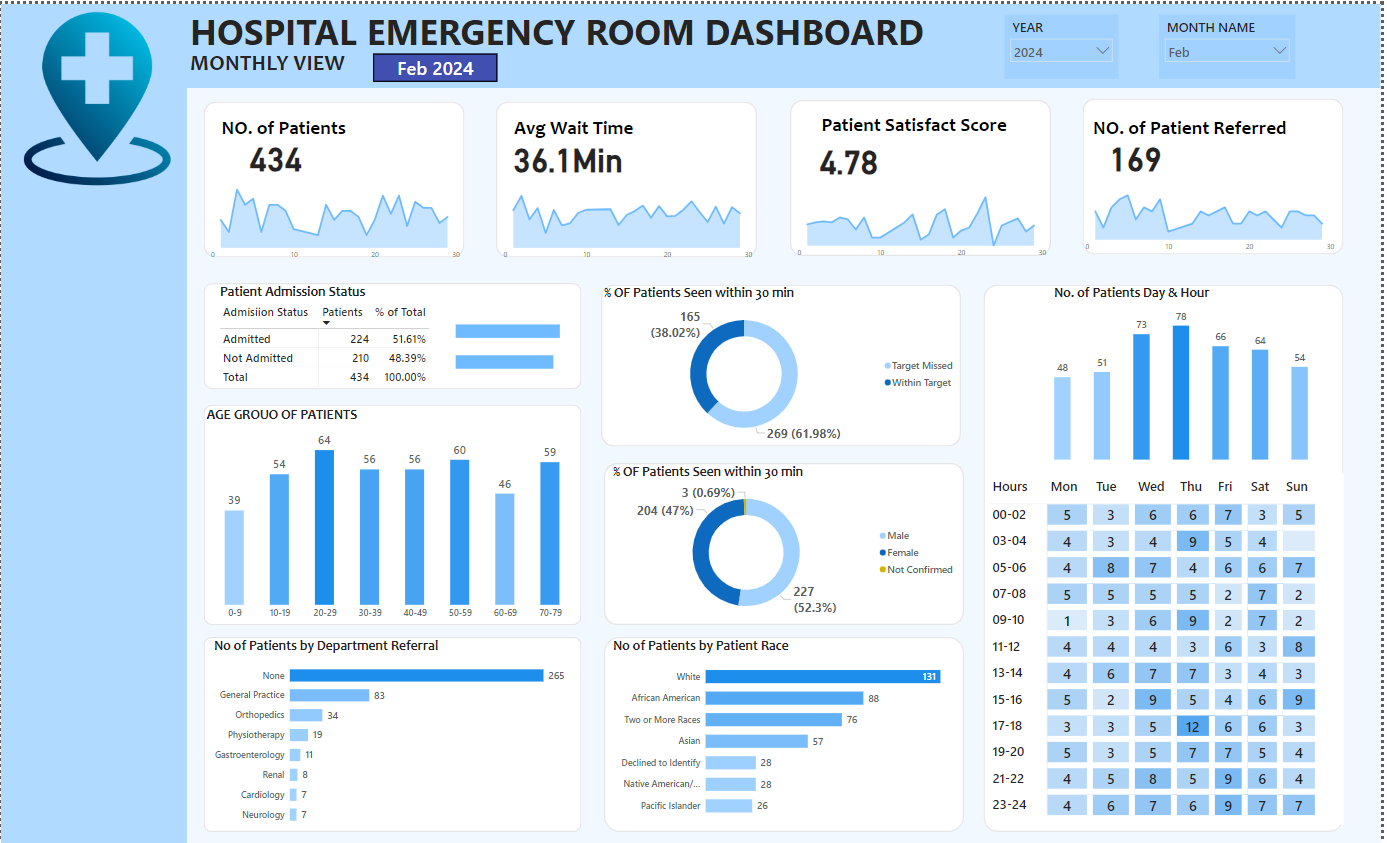

What the dashboard file says about the page in this screenshot:
{"tool":"powerbi","page":{"name":"Page 1","canvas":[2300,1400],"ordinal":0},"visuals":[{"type":"shape","box":[0,0,310,1400.1],"z":0},{"type":"shape","box":[311.1,0,1989,140],"z":1000},{"type":"textbox","box":[310,0,1990,92.5],"z":2000},{"type":"shape","box":[337.5,162.5,435,260],"z":3000},{"type":"textbox","box":[310,70,342.5,72.5],"z":4000},{"type":"card","fields":{"Values":["Hospital ER_Data.No of Patients"]},"box":[360,212.5,195,77.5],"z":5000},{"type":"slicer","fields":{"Values":["DATE TABLE.Year"]},"box":[1672.5,17.5,190,107.5],"z":6000},{"type":"slicer","fields":{"Values":["DATE TABLE.Month Table"]},"box":[1930,17.5,227.5,107.5],"z":7000},{"type":"textbox","box":[362.5,180,342.5,72.5],"z":8000},{"type":"areaChart","fields":{"Y":["Hospital ER_Data.No of Patients"],"Category":["DATE TABLE.Date.Variation.Date Hierarchy.Day"]},"box":[337.5,290,435,145],"z":9000},{"type":"card","fields":{"Values":["Min(DATE TABLE.Month & Year)"]},"box":[620,82.5,207.5,47.5],"z":10000},{"type":"shape","box":[825.8,162.5,435,260],"z":11000},{"type":"shape","box":[1314.2,160,435,260],"z":12000},{"type":"shape","box":[1802.5,157.5,435,260],"z":13000},{"type":"areaChart","fields":{"Category":["DATE TABLE.Date.Variation.Date Hierarchy.Day"],"Y":["Avg(Hospital ER_Data.Patient Waittime)"]},"box":[825,290,435,145],"z":14000},{"type":"areaChart","fields":{"Y":["Sum(Hospital ER_Data.Patient Satisfaction Score)"],"Category":["DATE TABLE.Date.Variation.Date Hierarchy.Day"]},"box":[1315,287.5,435,145],"z":15000},{"type":"areaChart","fields":{"Category":["DATE TABLE.Date.Variation.Date Hierarchy.Day"],"Y":["DATE TABLE.No. of Patient Referred"]},"box":[1795,277.5,435,145],"z":16000},{"type":"textbox","box":[1815,180,342.5,72.5],"z":17000},{"type":"textbox","box":[1362.5,175,342.5,72.5],"z":18000},{"type":"textbox","box":[850,180,342.5,72.5],"z":19000},{"type":"shape","box":[337.5,465,630,177],"z":20000},{"type":"card","fields":{"Values":["DATE TABLE.No. of Patient Referred"]},"box":[1792.5,212.5,195,77.5],"z":21000},{"type":"card","fields":{"Values":["DATE TABLE.Patient Satisfaction Score"]},"box":[1315,217.5,195,77.5],"z":22000},{"type":"card","fields":{"Values":["Hospital ER_Data.Avg Wait Time"]},"box":[847.5,215,195,77.5],"z":23000},{"type":"pivotTable","title":"Patient Admission Status","fields":{"Rows":["Hospital ER_Data.Admisiion Status"],"Values":["Hospital ER_Data.No of Patients1","Hospital ER_Data.No of Patients"]},"box":[360,465,545,177.5],"z":24000},{"type":"barChart","fields":{"Category":["Hospital ER_Data.Admisiion Status"],"Y":["Hospital ER_Data.No of Patients"]},"box":[752.5,495,242.5,147.5],"z":25000},{"type":"shape","box":[337.5,667.5,630,368],"z":26000},{"type":"clusteredColumnChart","title":"AGE GROUO OF PATIENTS","fields":{"Category":["Hospital ER_Data.AGE GROUP"],"Y":["Hospital ER_Data.No of Patients"]},"box":[337.5,670,630,365],"z":27000},{"type":"shape","box":[337.5,1055,630,325],"z":28000},{"type":"clusteredBarChart","fields":{"Category":["Hospital ER_Data.Department Referral"],"Y":["Hospital ER_Data.No of Patients"]},"box":[350,1055,595,325],"z":29000},{"type":"shape","box":[1000,467.5,600,270],"z":30000},{"type":"donutChart","title":" % OF Patients Seen within 30 min","fields":{"Category":["Hospital ER_Data.WAIT TIME"],"Y":["Hospital ER_Data.No of Patients"]},"box":[1000,467.5,600,270],"z":31000},{"type":"shape","box":[1005,765,600,270],"z":32000},{"type":"donutChart","title":" % OF Patients Seen within 30 min","fields":{"Y":["Hospital ER_Data.No of Patients"],"Category":["Hospital ER_Data.Patient Gender"]},"box":[1015,765,585,270],"z":33000},{"type":"shape","box":[1005,1055,600,325],"z":34000},{"type":"clusteredBarChart","fields":{"Y":["Hospital ER_Data.No of Patients"],"Category":["Hospital ER_Data.Patient Race"]},"box":[1015,1055,585,312.5],"z":35000},{"type":"shape","box":[1637.5,467.5,600,912.5],"z":36000},{"type":"pivotTable","fields":{"Rows":["Hospital ER_Data.WaitTime Interval"],"Columns":["DATE TABLE.Day Name"],"Values":["Hospital ER_Data.No of Patients"]},"box":[1642.5,782.5,595,585],"z":37000},{"type":"clusteredColumnChart","title":"No. of Patients Day & Hour","fields":{"Y":["Hospital ER_Data.No of Patients"],"Category":["DATE TABLE.Day Name"]},"box":[1750,467.5,435,297.5],"z":38000},{"type":"image","box":[10,7.5,300,300],"z":38001}]}

Visuals, with their boxes in screenshot pixels (x1, y1, x2, y2), scaled from the page's 2300x1400 canvas onto the 1387x843 screenshot:
shape: crop(0, 0, 187, 842)
shape: crop(188, 0, 1386, 84)
textbox: crop(187, 0, 1386, 56)
shape: crop(204, 98, 466, 254)
textbox: crop(187, 42, 393, 86)
card - Hospital ER_Data.No of Patients: crop(217, 128, 335, 175)
slicer - DATE TABLE.Year: crop(1009, 11, 1123, 75)
slicer - DATE TABLE.Month Table: crop(1164, 11, 1301, 75)
textbox: crop(219, 108, 425, 152)
areaChart - Hospital ER_Data.No of Patients x DATE TABLE.Date.Variation.Date Hierarchy.Day: crop(204, 175, 466, 262)
card - Min(DATE TABLE.Month & Year): crop(374, 50, 499, 78)
shape: crop(498, 98, 760, 254)
shape: crop(793, 96, 1055, 253)
shape: crop(1087, 95, 1349, 251)
areaChart - DATE TABLE.Date.Variation.Date Hierarchy.Day x Avg(Hospital ER_Data.Patient Waittime): crop(498, 175, 760, 262)
areaChart - Sum(Hospital ER_Data.Patient Satisfaction Score) x DATE TABLE.Date.Variation.Date Hierarchy.Day: crop(793, 173, 1055, 260)
areaChart - DATE TABLE.Date.Variation.Date Hierarchy.Day x DATE TABLE.No. of Patient Referred: crop(1082, 167, 1345, 254)
textbox: crop(1095, 108, 1301, 152)
textbox: crop(822, 105, 1028, 149)
textbox: crop(513, 108, 719, 152)
shape: crop(204, 280, 583, 387)
card - DATE TABLE.No. of Patient Referred: crop(1081, 128, 1199, 175)
card - DATE TABLE.Patient Satisfaction Score: crop(793, 131, 911, 178)
card - Hospital ER_Data.Avg Wait Time: crop(511, 129, 629, 176)
"Patient Admission Status" pivotTable: crop(217, 280, 546, 387)
barChart - Hospital ER_Data.Admisiion Status x Hospital ER_Data.No of Patients: crop(454, 298, 600, 387)
shape: crop(204, 402, 583, 624)
"AGE GROUO OF PATIENTS" clusteredColumnChart: crop(204, 403, 583, 623)
shape: crop(204, 635, 583, 831)
clusteredBarChart - Hospital ER_Data.Department Referral x Hospital ER_Data.No of Patients: crop(211, 635, 570, 831)
shape: crop(603, 282, 965, 444)
" % OF Patients Seen within 30 min" donutChart: crop(603, 282, 965, 444)
shape: crop(606, 461, 968, 623)
" % OF Patients Seen within 30 min" donutChart: crop(612, 461, 965, 623)
shape: crop(606, 635, 968, 831)
clusteredBarChart - Hospital ER_Data.No of Patients x Hospital ER_Data.Patient Race: crop(612, 635, 965, 823)
shape: crop(987, 282, 1349, 831)
pivotTable - Hospital ER_Data.WaitTime Interval x DATE TABLE.Day Name: crop(990, 471, 1349, 823)
"No. of Patients Day & Hour" clusteredColumnChart: crop(1055, 282, 1318, 461)
image: crop(6, 5, 187, 185)
